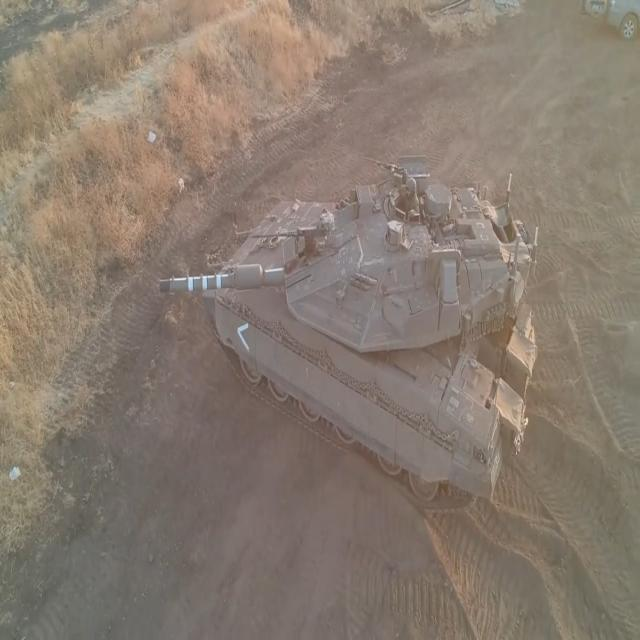tank: (149, 152, 542, 514)
